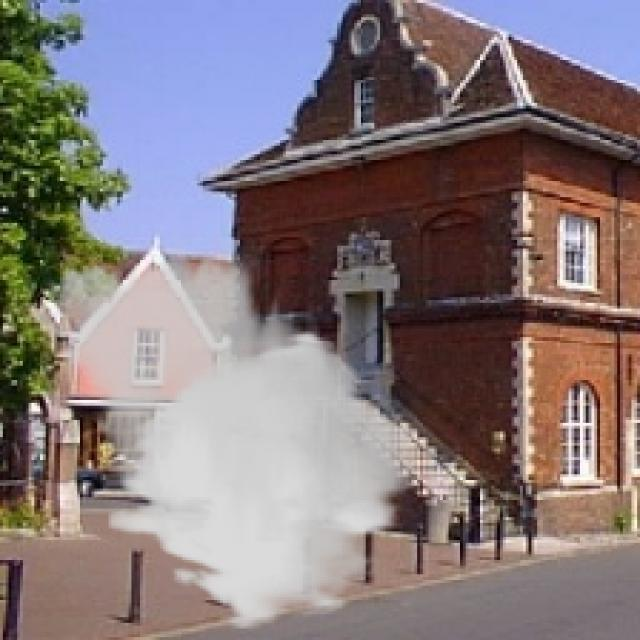Smoke: (37, 239, 417, 632)
